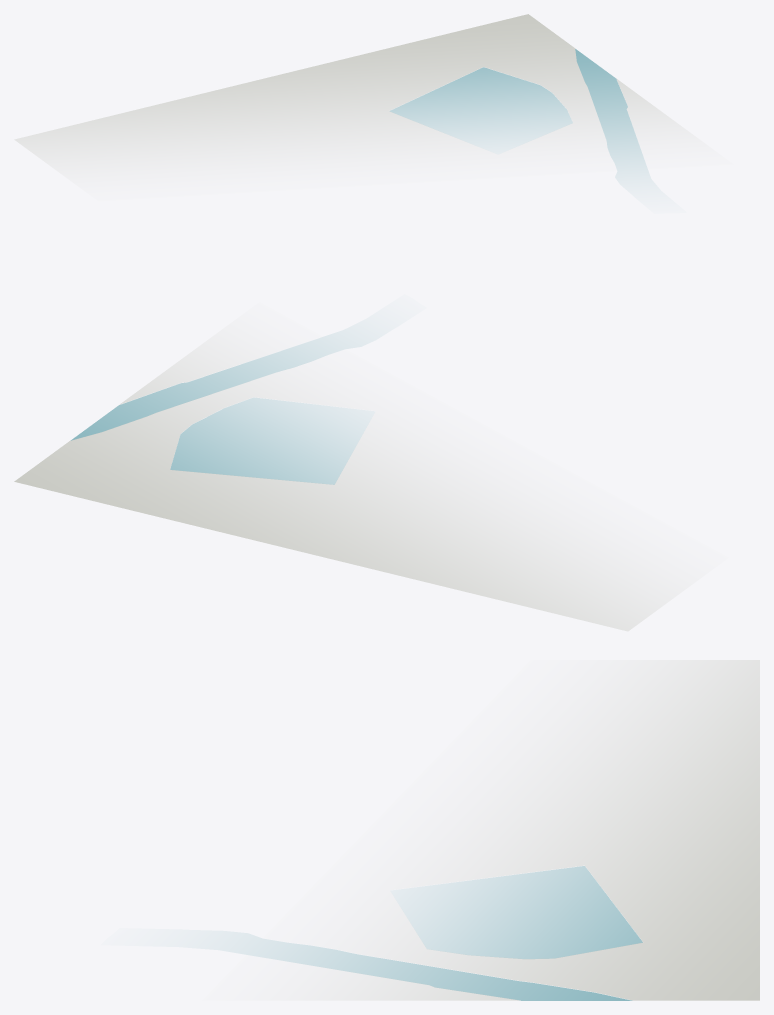
3 views of the same model, one above another, from view 1: azimuth 30°, elevation 25°; view 2: azimuth 150°, elevation 25°; view 3: azimuth 270°, elevation 25° (orthographic). The views are drawn at different scales.
Parts seen in each view (by area): view 1: city; view 2: city; view 3: city.
Part boxes in pixels (box(x1,y1,x2,y2)): city: box(14, 14, 694, 179); city: box(14, 331, 682, 631); city: box(223, 660, 759, 1000).
Bounding box in the file's own units: 500 × 0.18 × 463.
